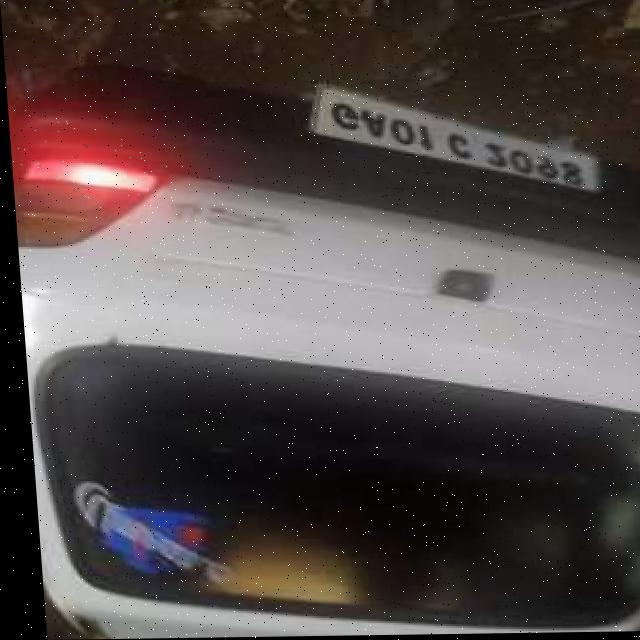plate: (310, 83, 597, 201)
